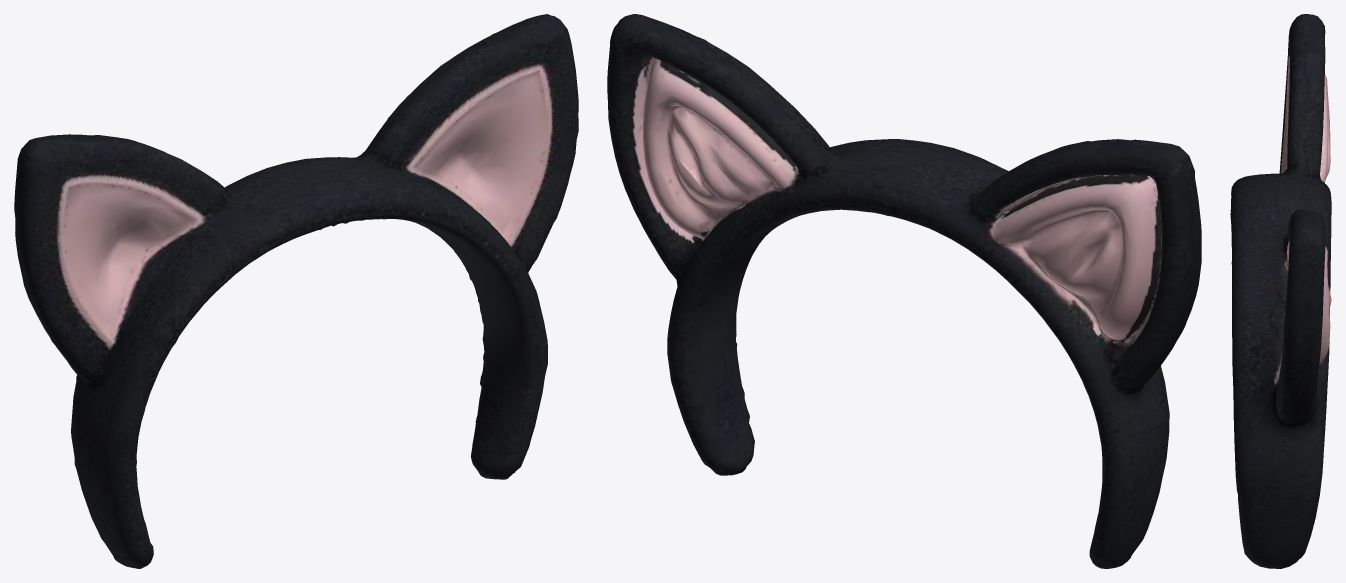
The model's file is catears.glb.
3 views of the same model, side by side, from view 1: azimuth 30°, elevation 25°; view 2: azimuth 150°, elevation 25°; view 3: azimuth 270°, elevation 25° (orthographic). The views are drawn at different scales.
Parts seen in each view (by area): view 1: node_0; view 2: node_0; view 3: node_0.
Boxes of the visible parts, x1,y1,x2,y2 form: node_0: (14,14,578,568); node_0: (607,14,1201,568); node_0: (1230,14,1331,568).
Bounding box in the file's own units: 0.46 × 0.3389 × 0.0843.
Materials: 1 (1 with a texture image).
